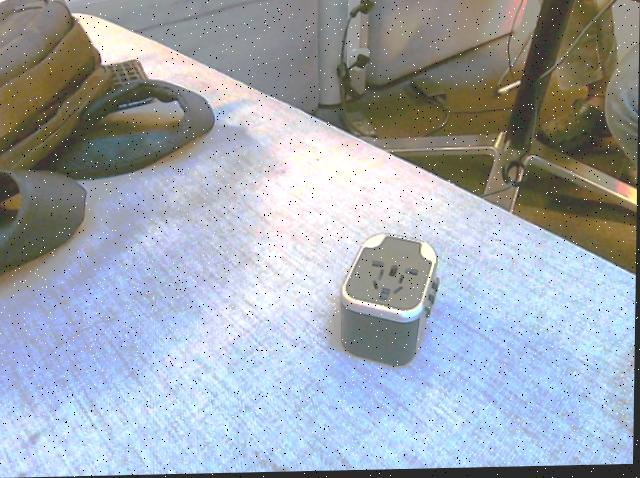adapter: (339, 233, 440, 370)
